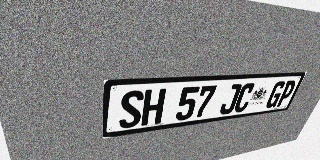5: (175, 86, 200, 121)
7: (192, 85, 217, 119)
C: (232, 83, 256, 113)
G: (264, 81, 287, 109)
H: (141, 89, 166, 126)
J: (218, 84, 243, 115)
P: (275, 80, 298, 107)
S: (119, 90, 144, 129)
